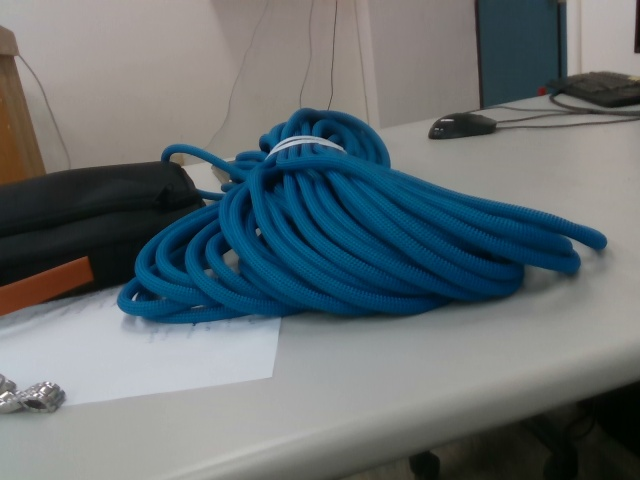rope: (116, 106, 612, 326)
